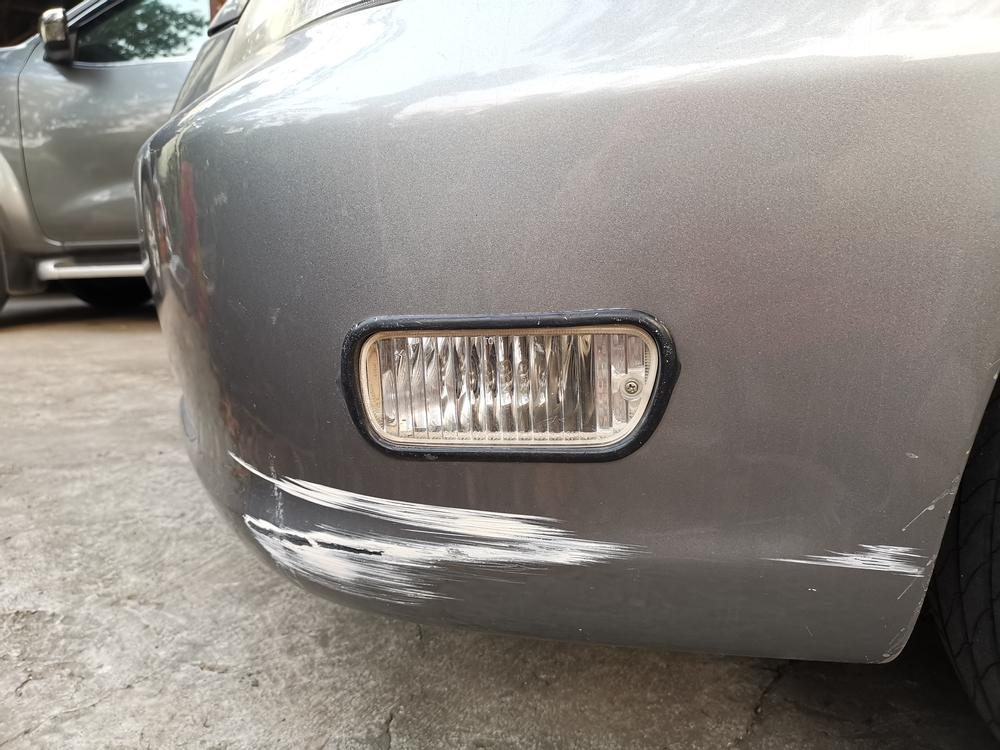scratch: (222, 449, 653, 605), (757, 538, 937, 581)
